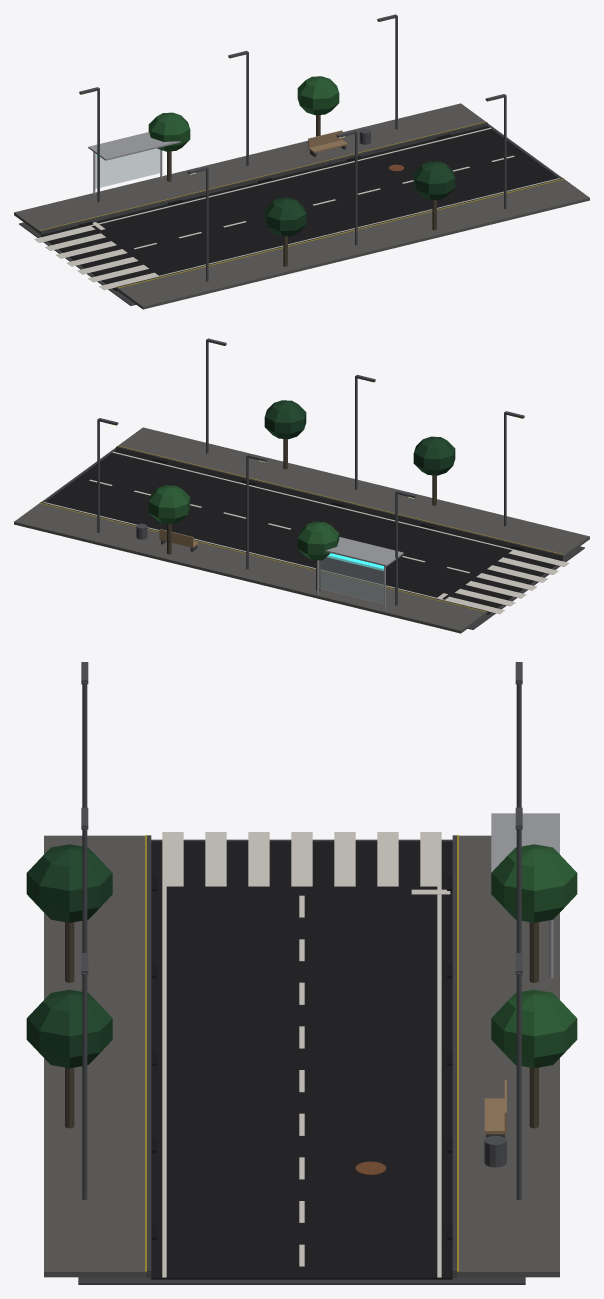
File: STR_CityStreet_ML_v001.glb
3 renders of one model, top to bottom at view 1: azimuth 30°, elevation 25°; view 2: azimuth 150°, elevation 25°; view 3: azimuth 270°, elevation 25°, orthographic. The views are drawn at different scales.
Visible parts, largest first — view 1: STR_CityStreet_ML_v001; view 2: STR_CityStreet_ML_v001; view 3: STR_CityStreet_ML_v001.
Part boxes in pixels (x1,y1,x2,y2): STR_CityStreet_ML_v001: (14, 14, 589, 309); STR_CityStreet_ML_v001: (14, 338, 589, 633); STR_CityStreet_ML_v001: (26, 662, 577, 1284).
Bounding box in the file's own units: 24.7 × 6.09 × 12.8.
